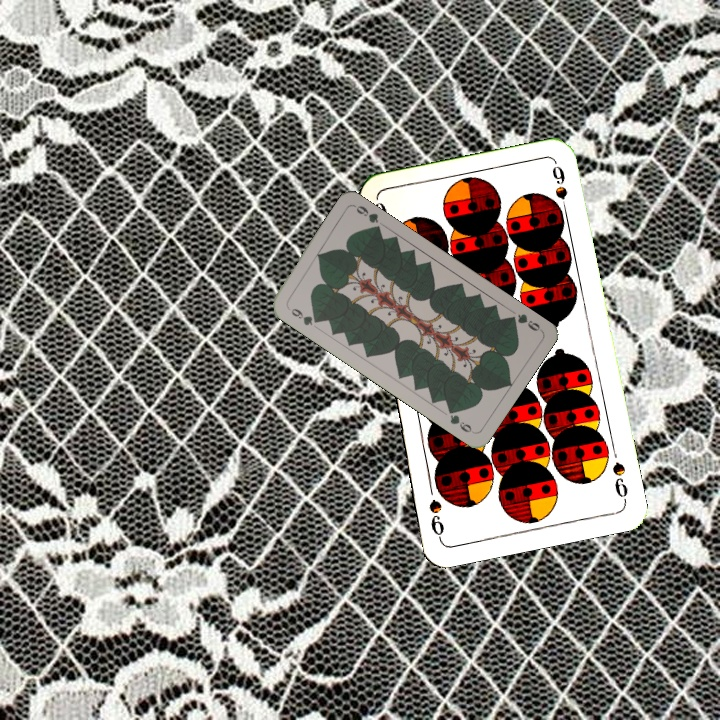G9: (283, 302, 322, 328), (504, 309, 544, 334)
S9: (608, 458, 631, 505)
